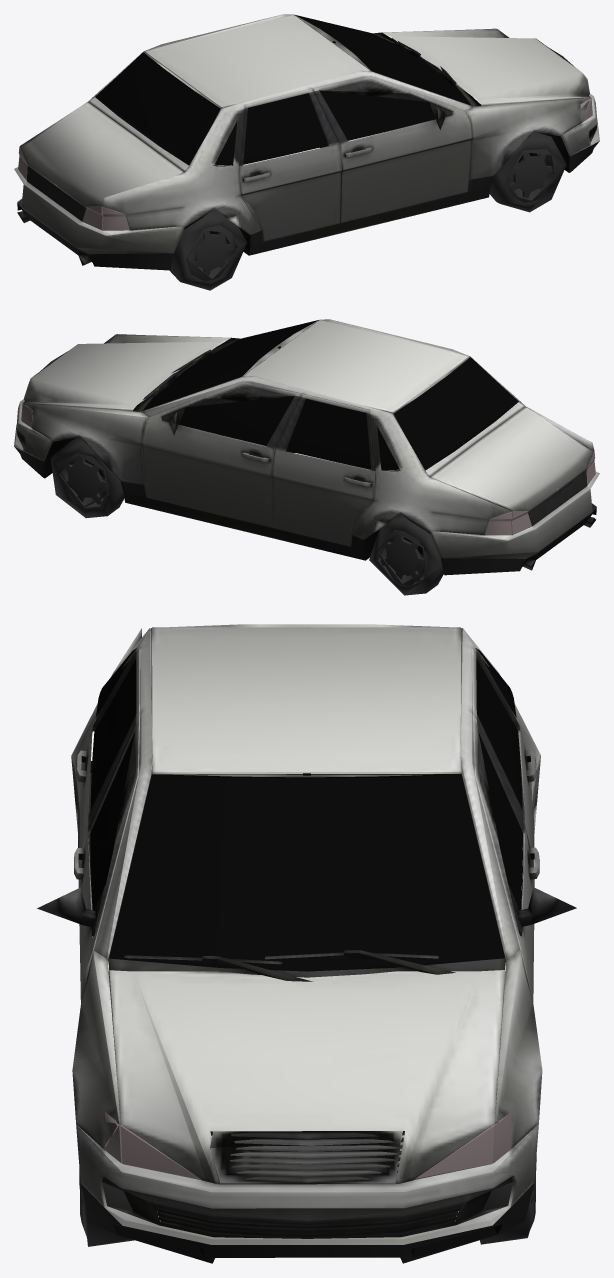
The model's file is pc-sedan-white.lod1.glb.
The picture shows the model from 3 angles, top to bottom: view 1: azimuth 30°, elevation 25°; view 2: azimuth 150°, elevation 25°; view 3: azimuth 270°, elevation 25°; orthographic projection. The views are drawn at different scales.
Parts seen in each view (by area): view 1: Sedan Body_Body_0, Sedan Body_Glass_0; view 2: Sedan Body_Body_0, Sedan Body_Glass_0; view 3: Sedan Body_Body_0, Sedan Body_Glass_0.
Part boxes in pixels (box(x1,y1,x2,y2)): Sedan Body_Body_0: box(14, 14, 599, 270); Sedan Body_Glass_0: box(18, 14, 592, 290); Sedan Body_Body_0: box(14, 319, 599, 575); Sedan Body_Glass_0: box(21, 320, 595, 595); Sedan Body_Body_0: box(37, 624, 576, 1263); Sedan Body_Glass_0: box(78, 659, 536, 1246).
Bounding box in the file's own units: 4.33 × 1.31 × 1.92.
2 materials, 1 textured.
